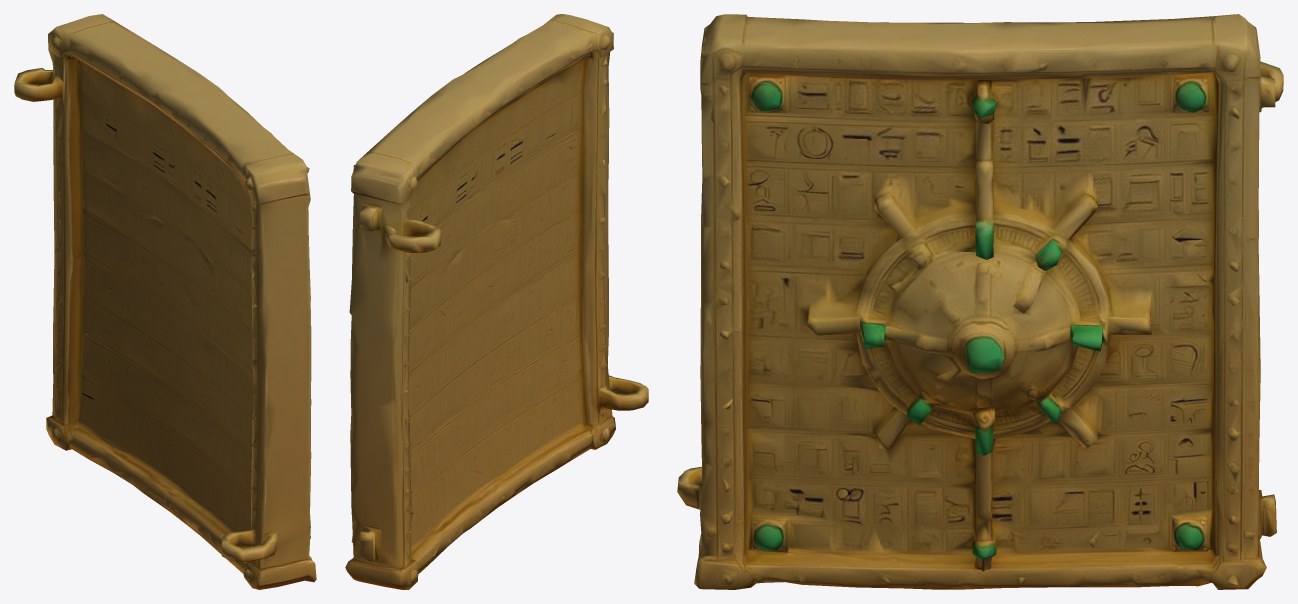
The model's file is et_vaultdoor.glb.
3 renders of one model, left to right at view 1: azimuth 30°, elevation 25°; view 2: azimuth 150°, elevation 25°; view 3: azimuth 270°, elevation 25°, orthographic. The views are drawn at different scales.
Parts seen in each view (by area): view 1: tripo_node_3df87504-411c-465c-beec-ff3dbd2b7998; view 2: tripo_node_3df87504-411c-465c-beec-ff3dbd2b7998; view 3: tripo_node_3df87504-411c-465c-beec-ff3dbd2b7998.
Part boxes in pixels (left/top/right/bottom): tripo_node_3df87504-411c-465c-beec-ff3dbd2b7998: left=14, top=14, right=316, bottom=589; tripo_node_3df87504-411c-465c-beec-ff3dbd2b7998: left=345, top=14, right=648, bottom=589; tripo_node_3df87504-411c-465c-beec-ff3dbd2b7998: left=677, top=14, right=1283, bottom=589.
Size of the model in its own units: 0.2372 by 0.6 by 0.6009.
1 material, 1 textured.
